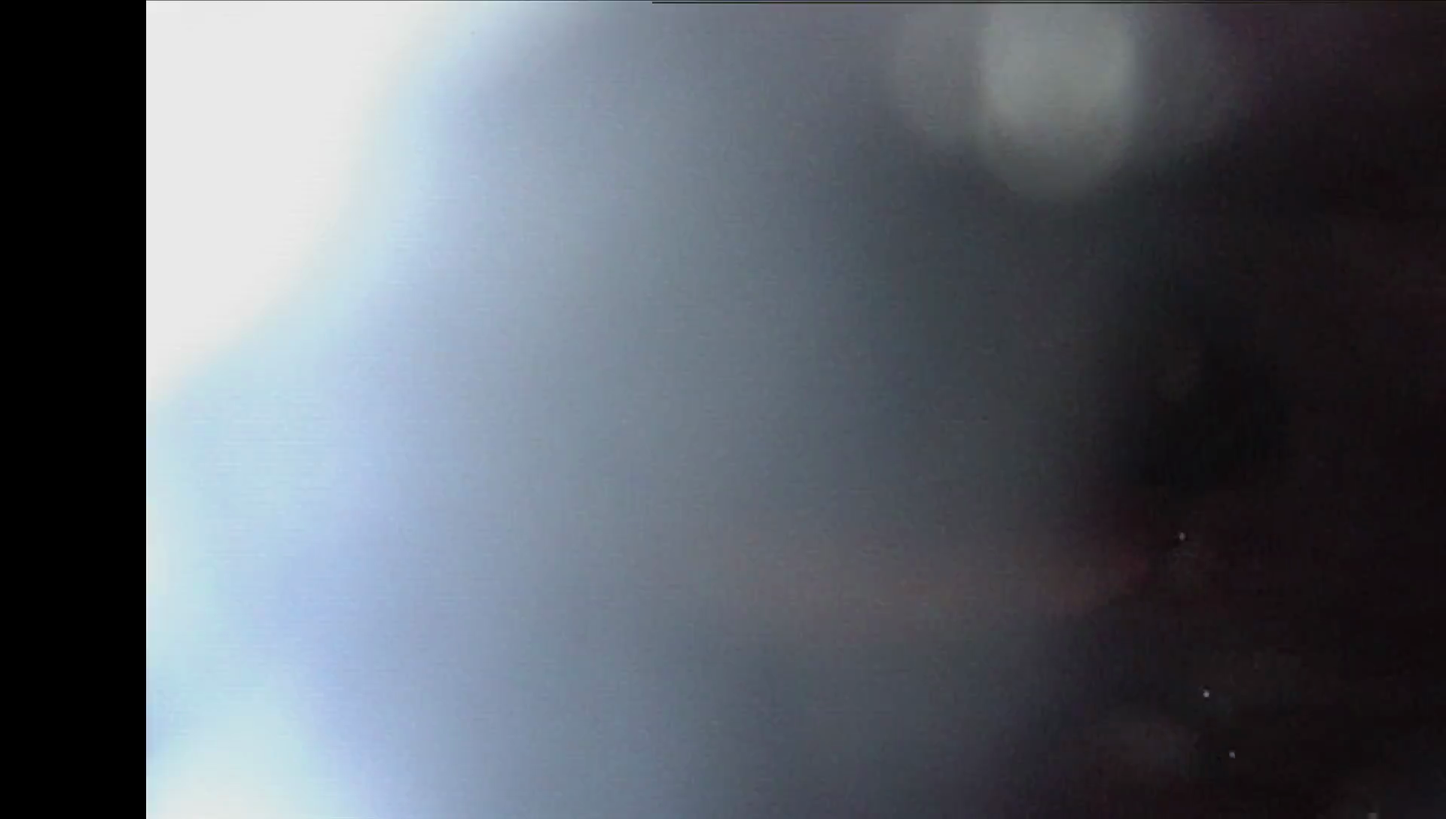next: (1026, 212, 1329, 503)
